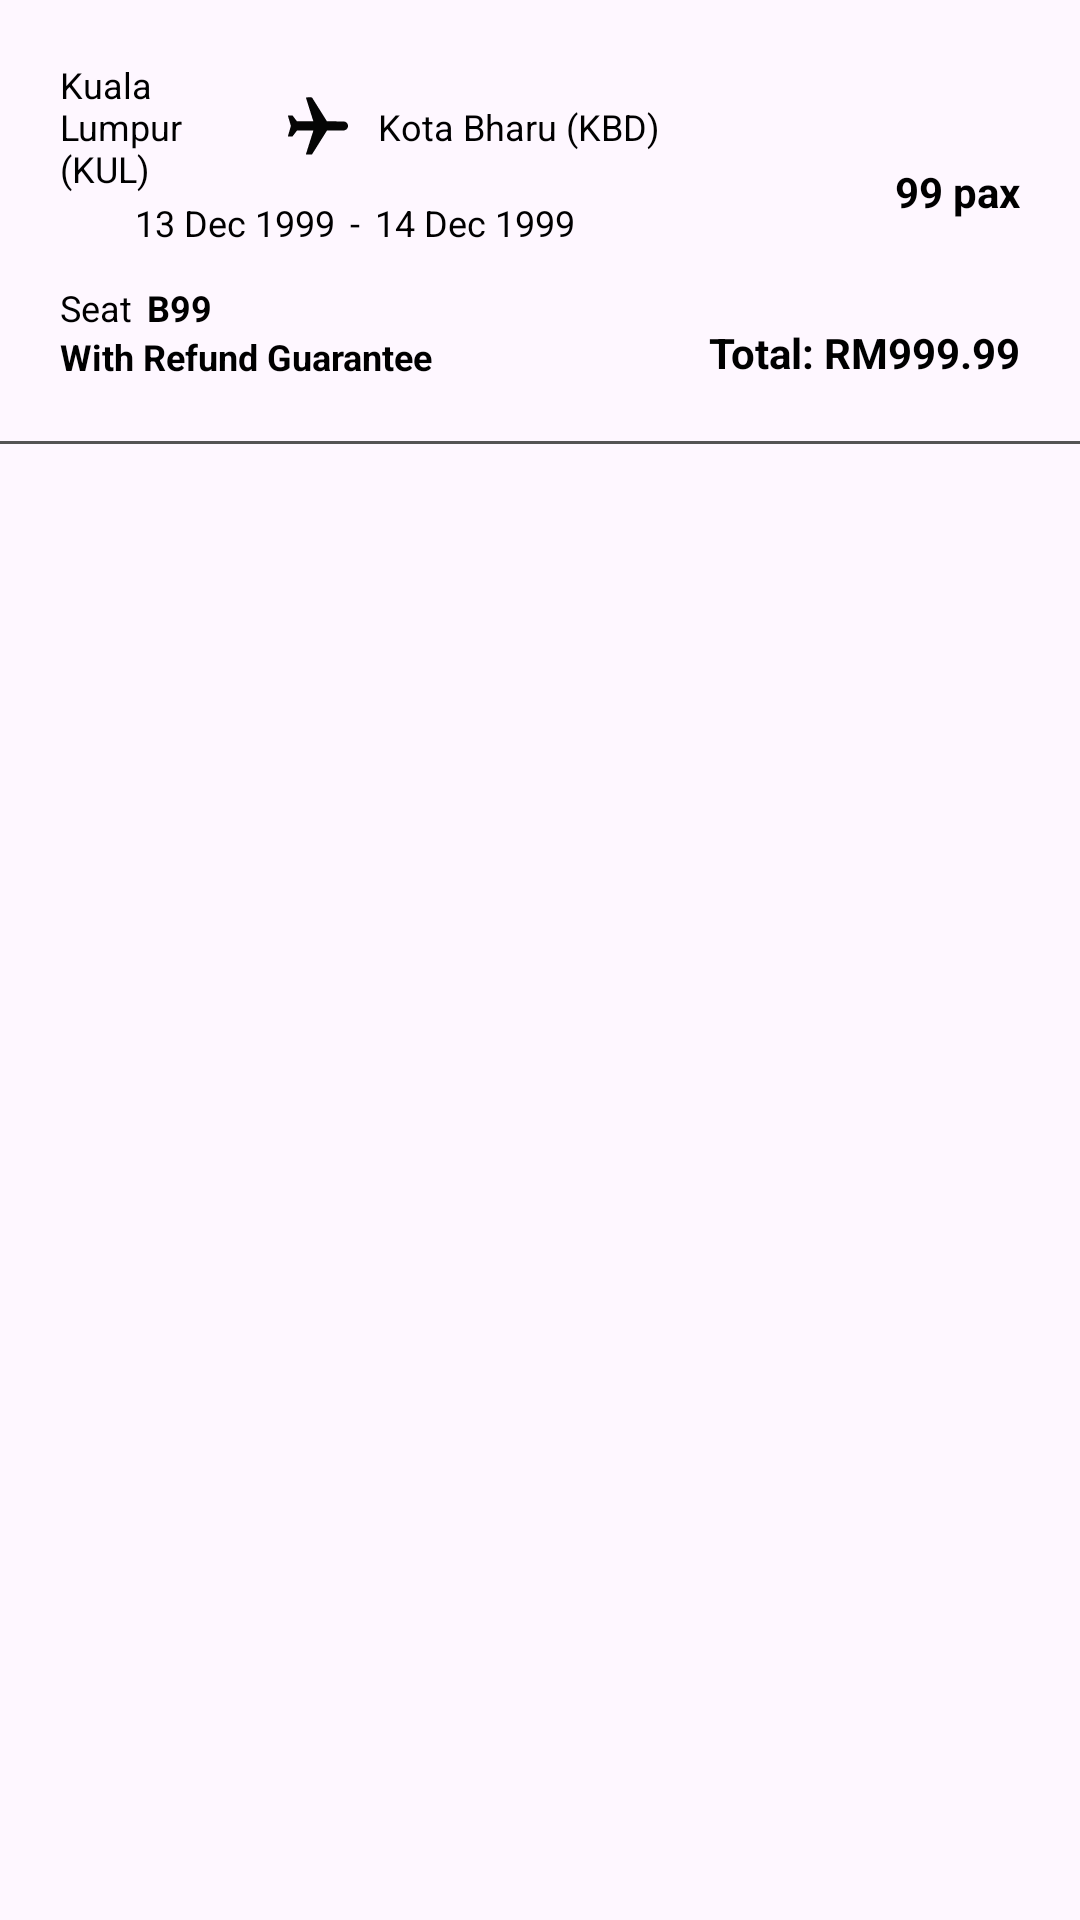

Icon click points for this 1080px×1920px phone screenshot, format [x,y]:
airplane straight: [318,126]
